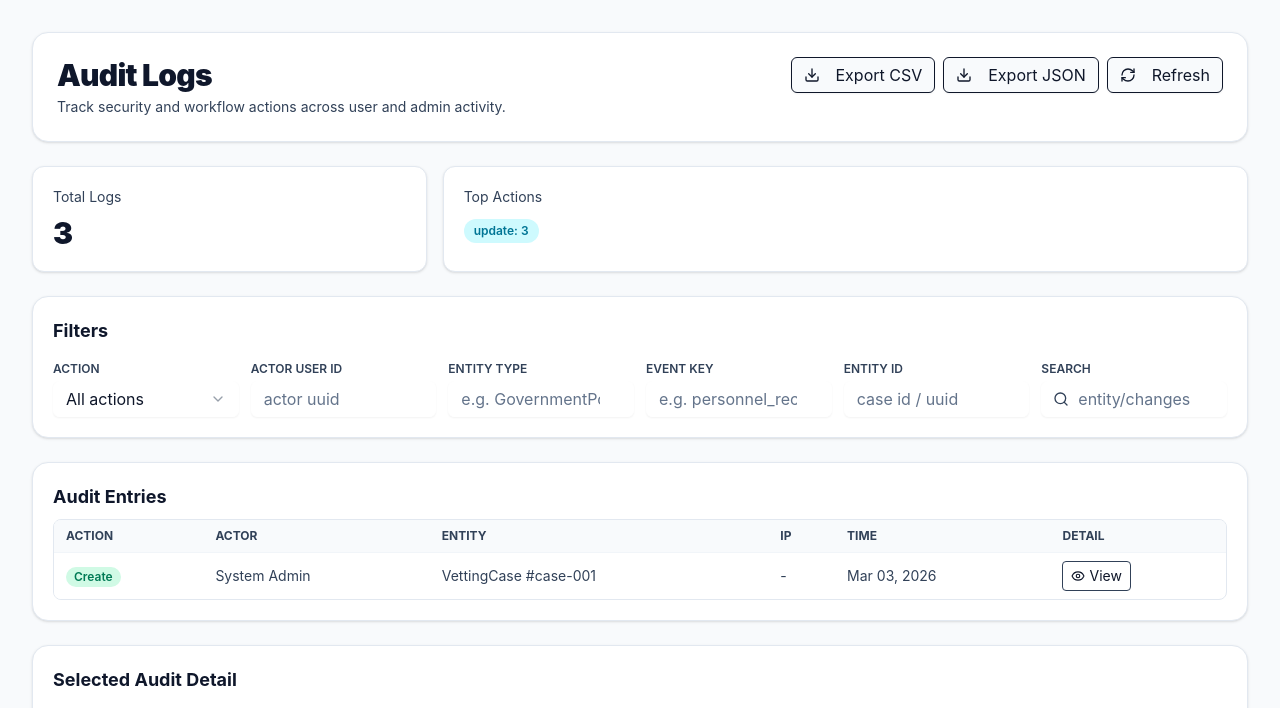
Test: AuditLogsPage export actions › applies government entity type filter and refreshes rows
The image size is (1280, 708).
Type "GovernmentPosition" into the field labelled "Entity Type".
click(541, 399); type("GovernmentPosition")  # box [448,381,634,417]
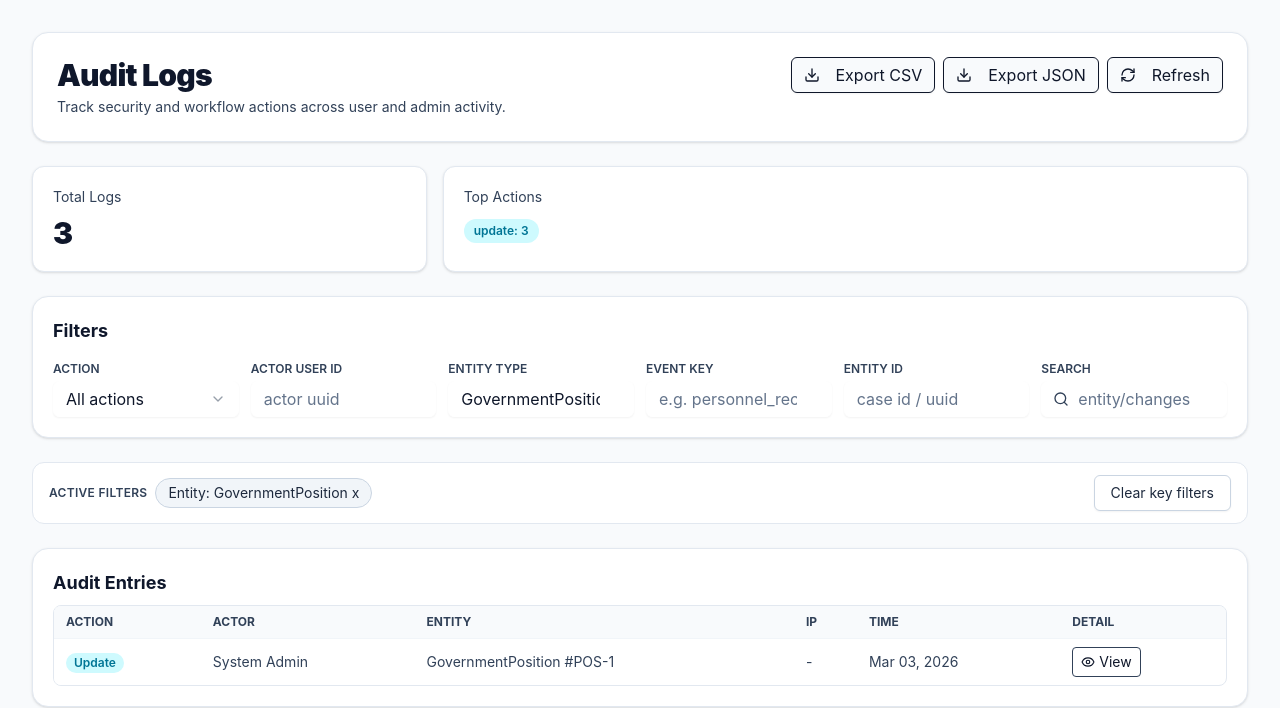
Now the text "GovernmentPosition #POS-1" is shown, box [414,638,794,685]
Replace the text in the field labelled "Entity Type" with "PersonnelRecord" at (541, 399), box [448,381,634,417]
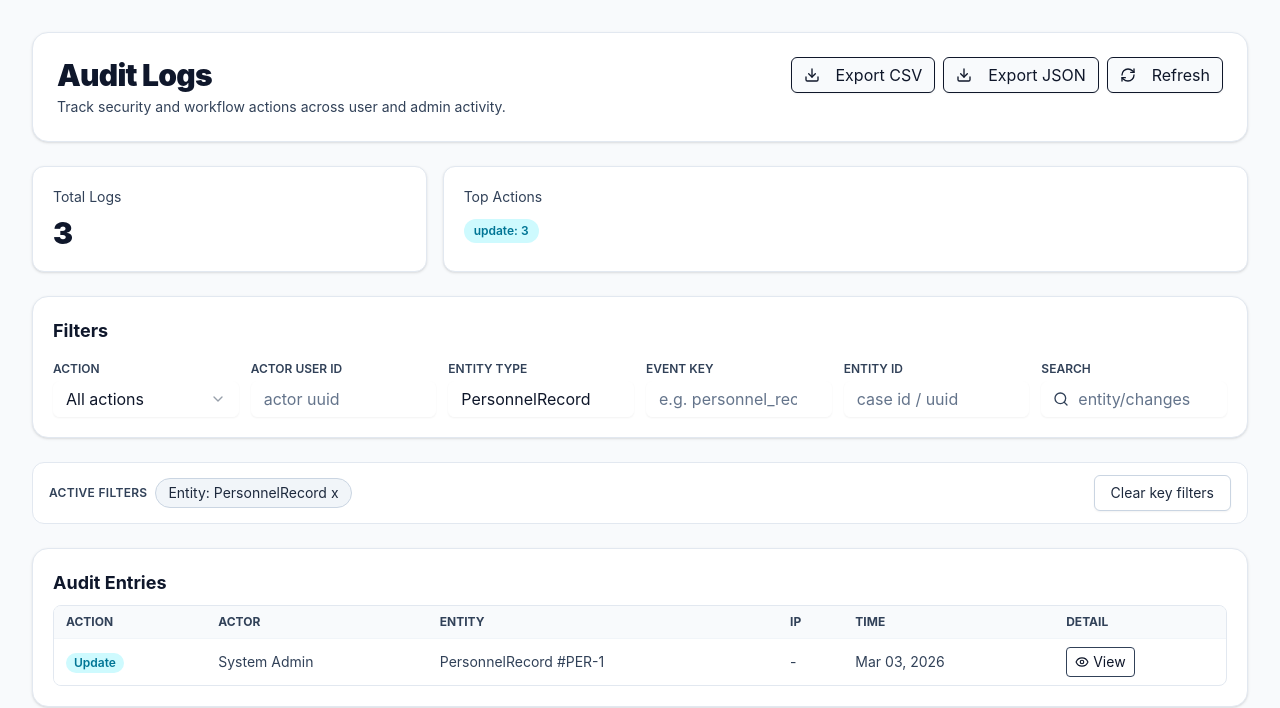
Now the text "PersonnelRecord #PER-1" is shown, box [428,638,778,685]
Replace the text in the field labelled "Entity Type" with "AppointmentRecord" at (541, 399), box [448,381,634,417]
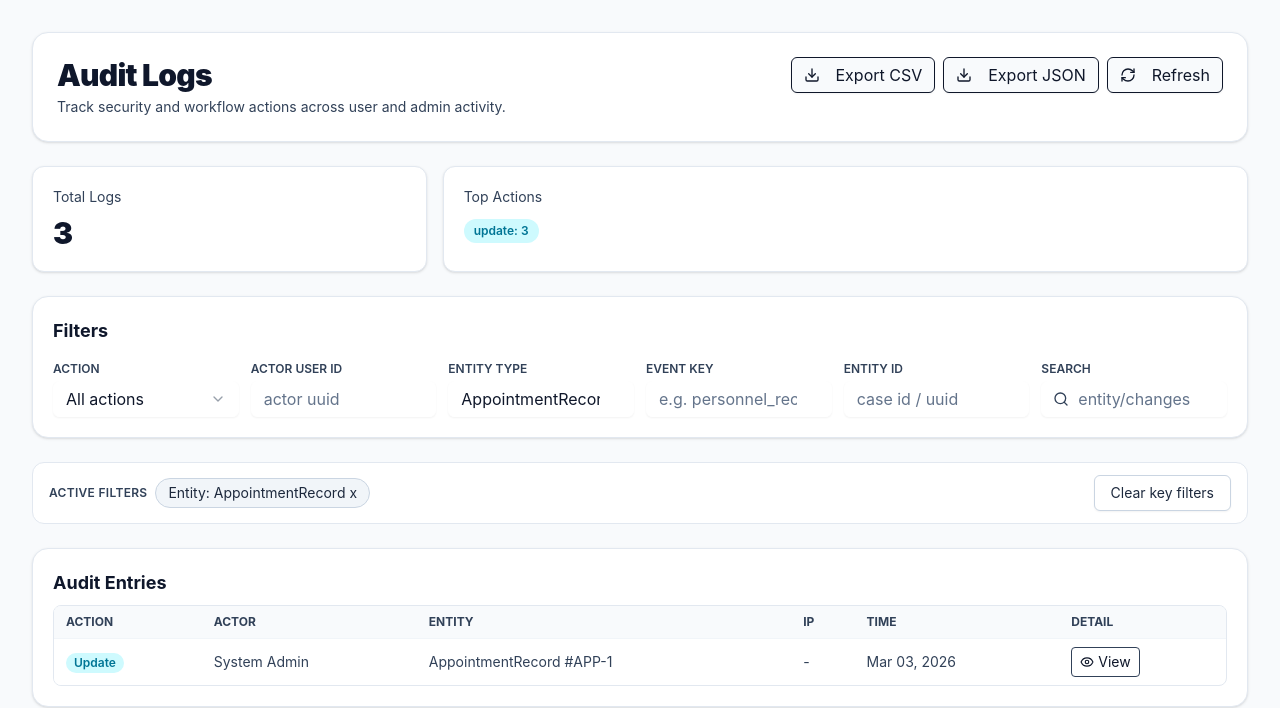
Now the text "AppointmentRecord #APP-1" is shown, box [417,638,791,685]
